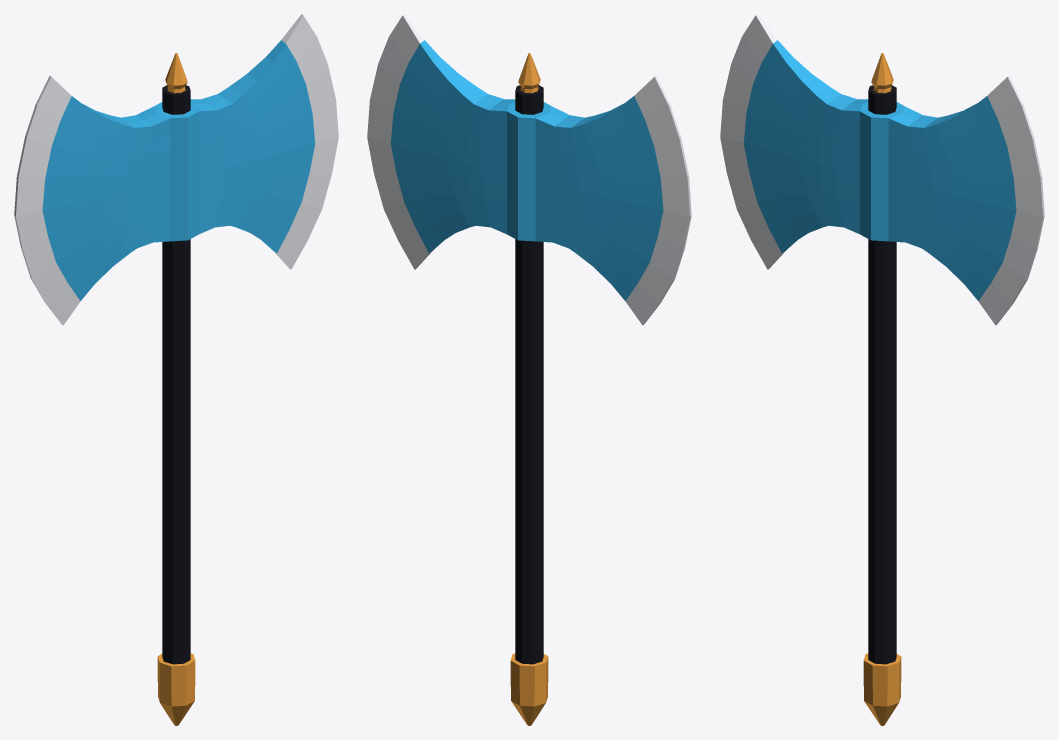
The model's file is one_handed_axe_8.fbx.
3 renders of one model, left to right at view 1: azimuth 30°, elevation 25°; view 2: azimuth 150°, elevation 25°; view 3: azimuth 330°, elevation 25°, orthographic.
Visible parts, largest first — view 1: one_handed_axe_8; view 2: one_handed_axe_8; view 3: one_handed_axe_8.
Part boxes in pixels (box(x1,y1,x2,y2)): one_handed_axe_8: box(14, 14, 338, 725); one_handed_axe_8: box(367, 14, 691, 725); one_handed_axe_8: box(720, 14, 1044, 725).
Bounding box in the file's own units: 0.6486 × 1.3 × 0.0809.
Materials: 1 (1 with a texture image).
